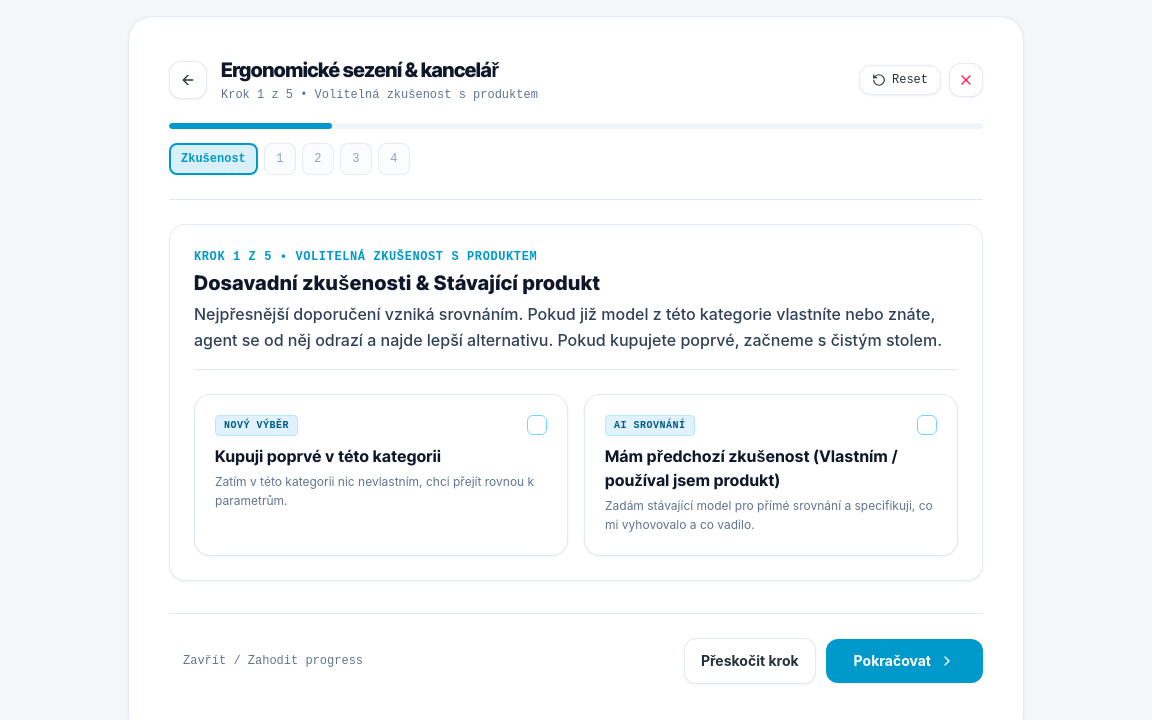
DynamicAgentWizard Unit Test Suite (PRD v1) › 1. Vykreslí dynamický dotazník z definice agenta s posuvníkem a kroky
The width and height of the screenshot is (1152, 720).
Expected: the heading "Ergonomické sezení & kancelář" is shown, left=221, top=57, right=538, bottom=84
Expected: the heading "Dosavadní zkušenosti & Stávající produkt" is shown, left=194, top=270, right=600, bottom=294
Advance to step 2 (first question)
Step 1. Click the button "Pokračovat" → click(904, 660), box left=826, top=638, right=983, bottom=682
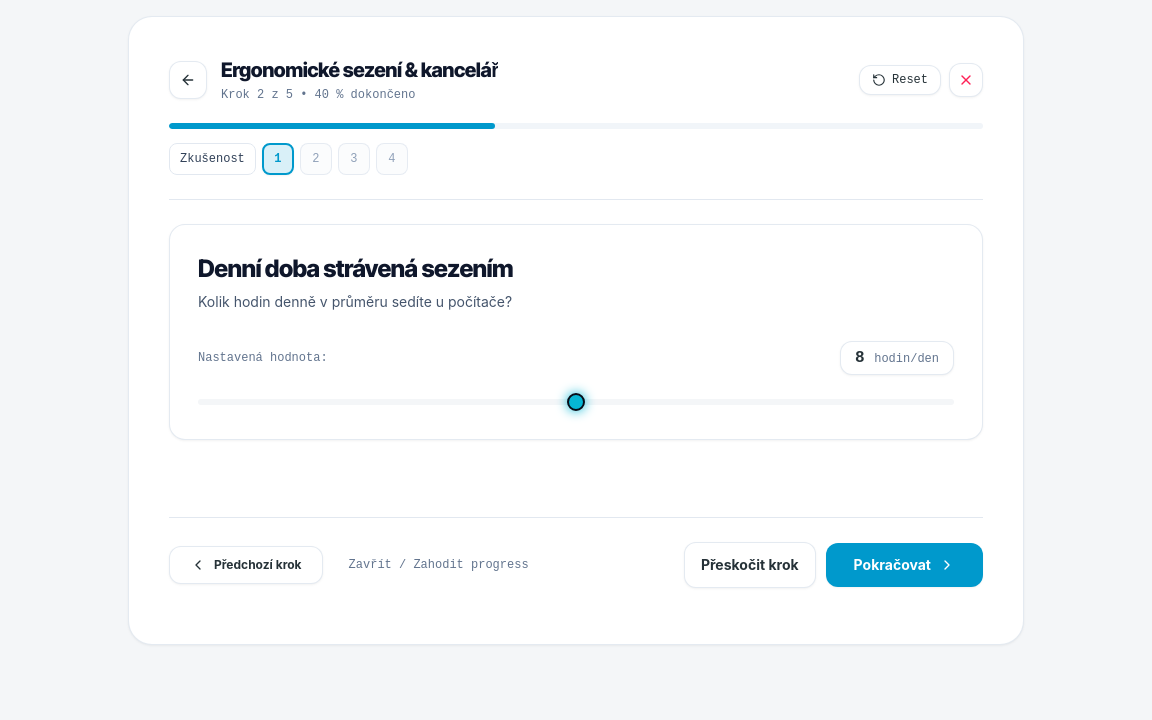
Now the text "Denní doba strávená sezením" is shown, box left=198, top=252, right=513, bottom=284
